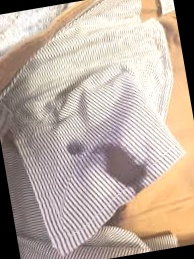ink: (102, 143, 148, 196), (66, 142, 84, 159)
